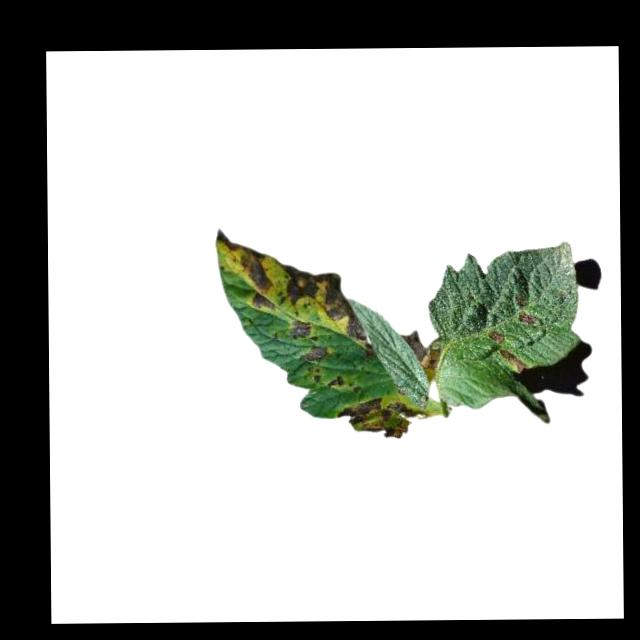Early_blight: (215, 225, 371, 352), (335, 395, 413, 438), (401, 326, 440, 370), (501, 347, 527, 371), (301, 343, 327, 364), (289, 320, 313, 340), (324, 370, 344, 390), (486, 328, 507, 344), (519, 308, 537, 324)
